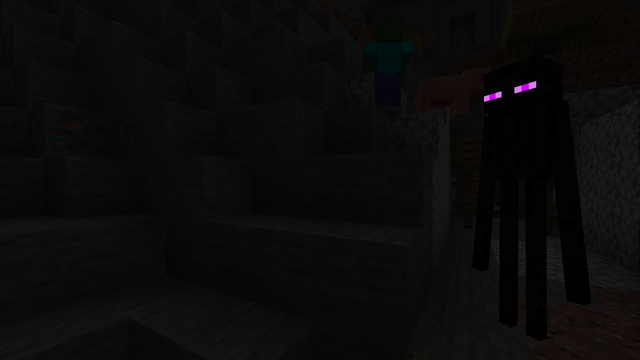cochons: (419, 68, 465, 122)
endermens: (487, 41, 568, 355)
zombies: (369, 12, 404, 116)
